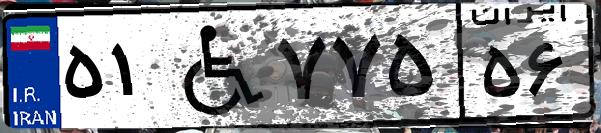1: (110, 28, 158, 98)
5: (385, 28, 445, 110), (57, 26, 110, 100), (475, 38, 525, 113)
6: (525, 38, 570, 115)
7: (270, 28, 330, 110), (330, 28, 385, 110)
ژ (معلولین و جانبازان): (158, 12, 270, 120)
